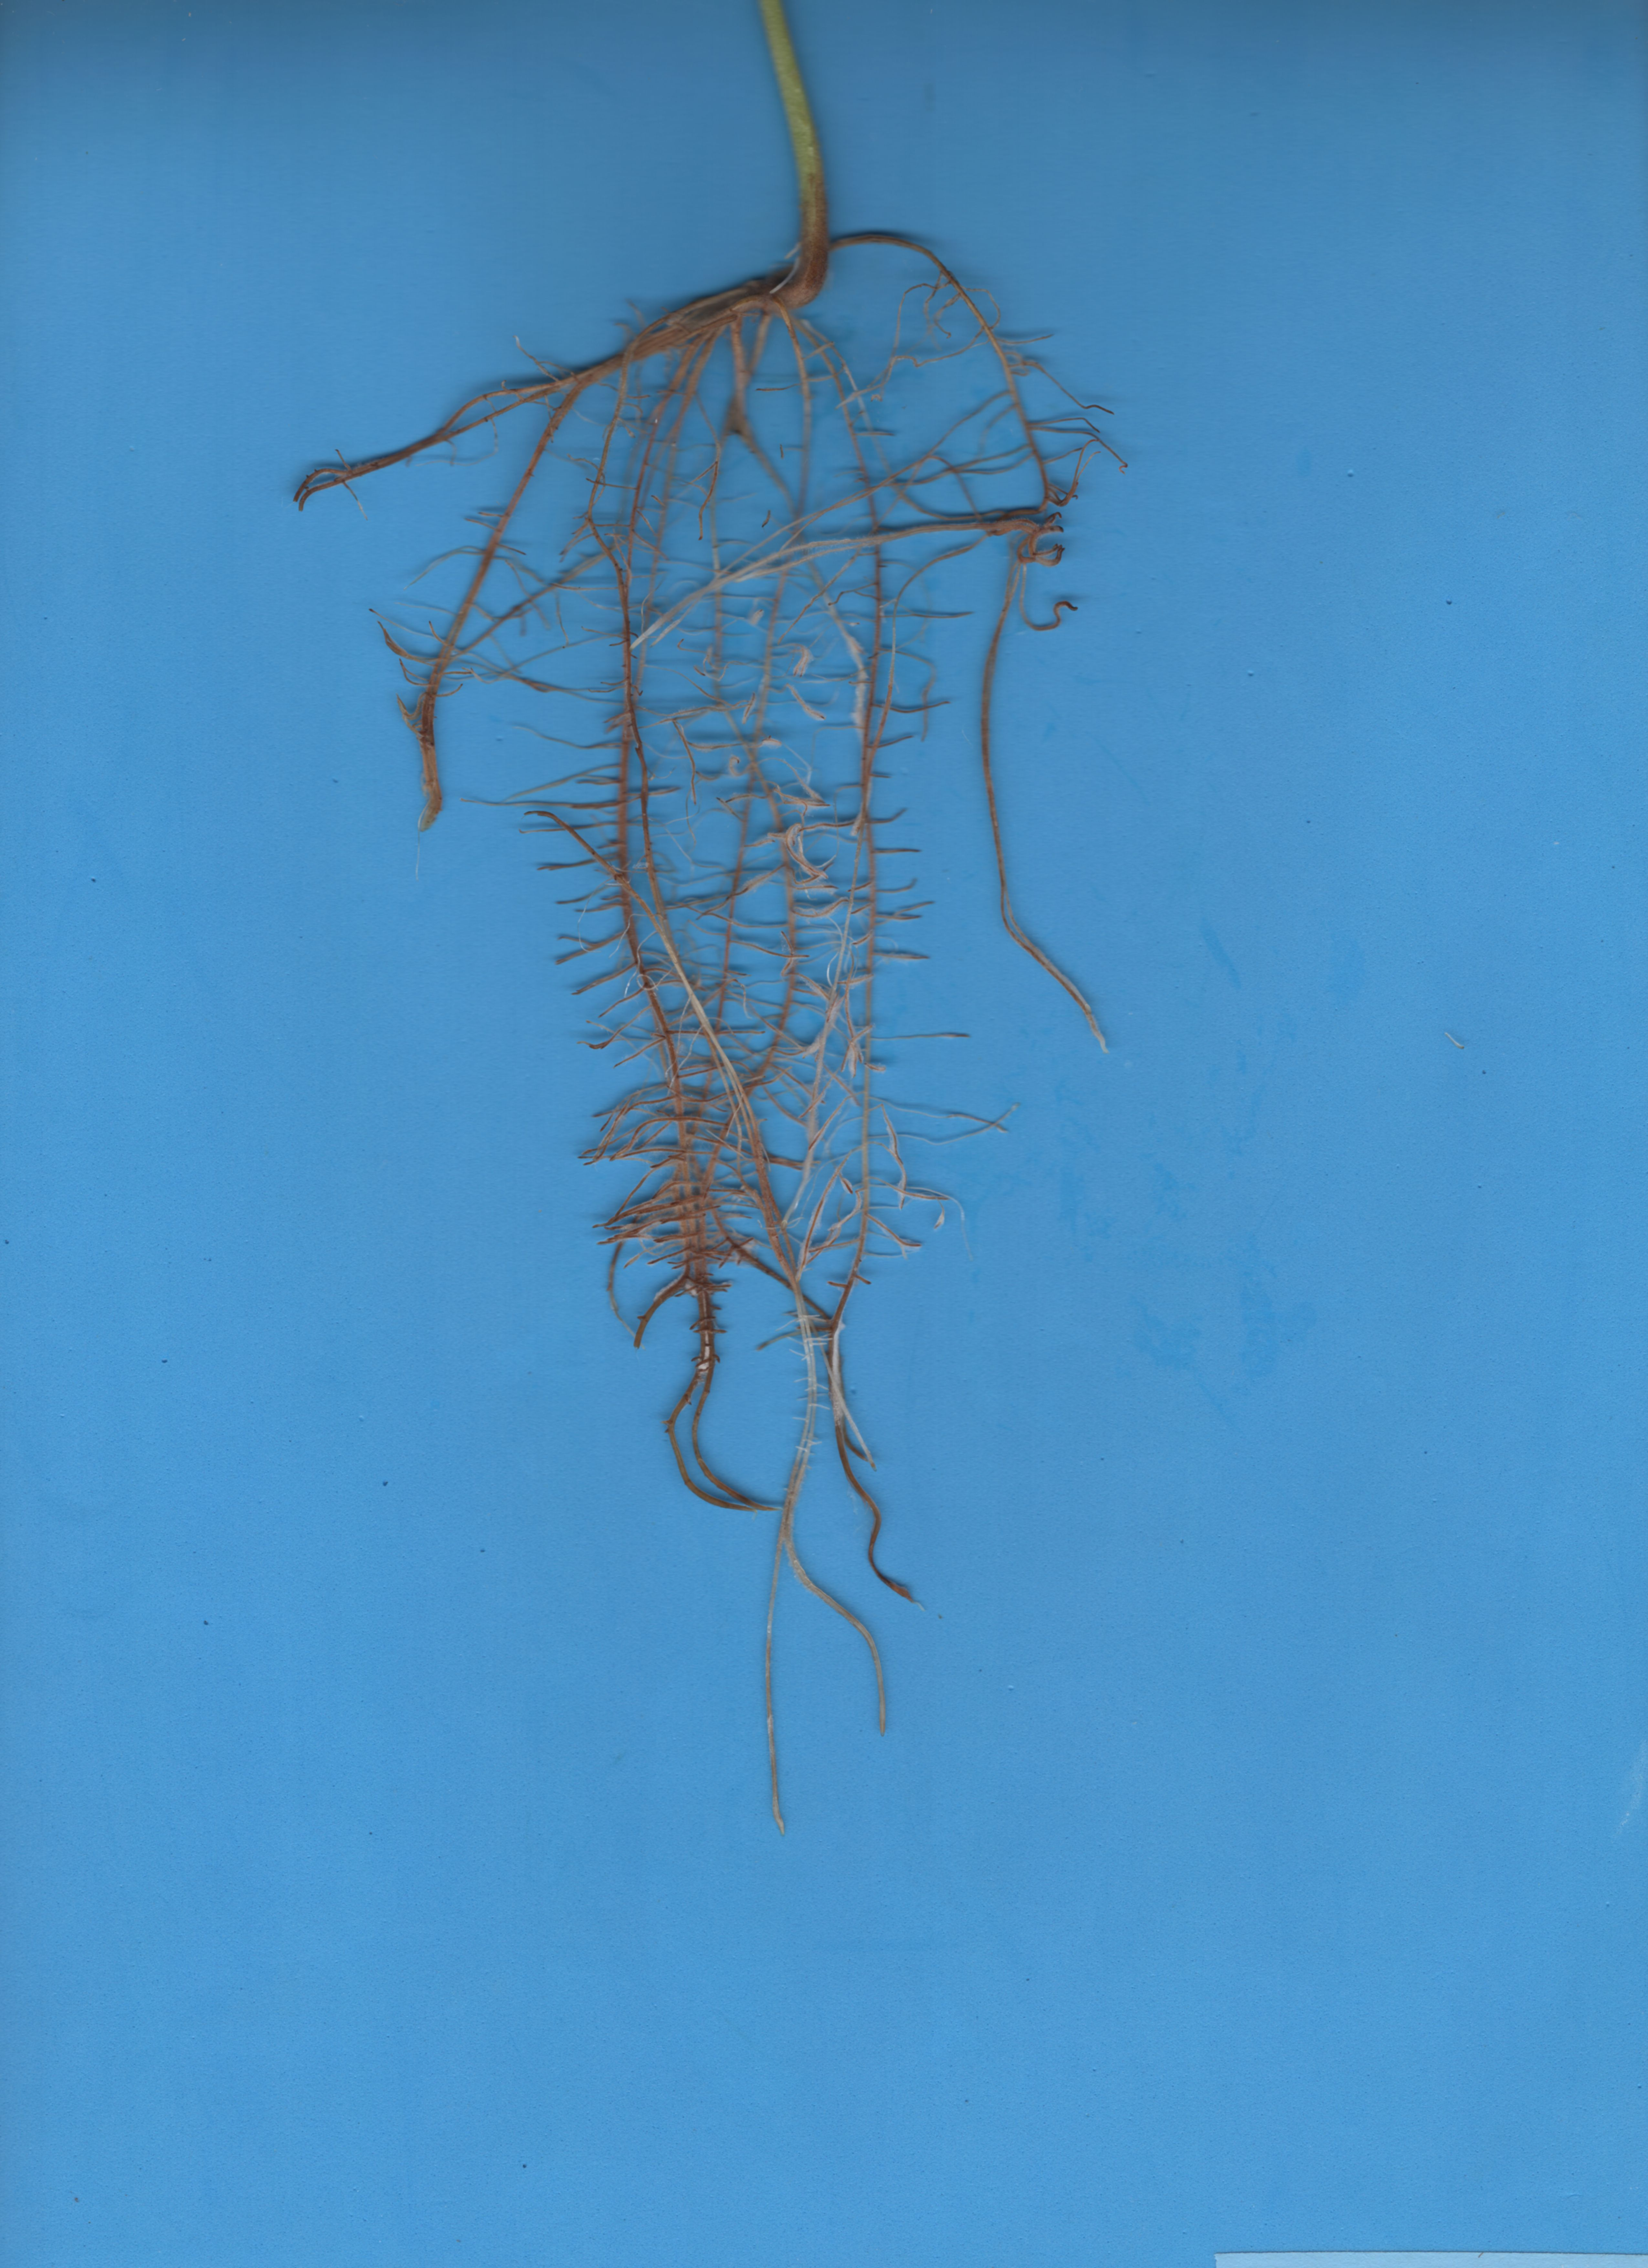CROWNDISEASE: (703, 0, 910, 299)
ROOTDISEASE: (296, 275, 1190, 1845)
